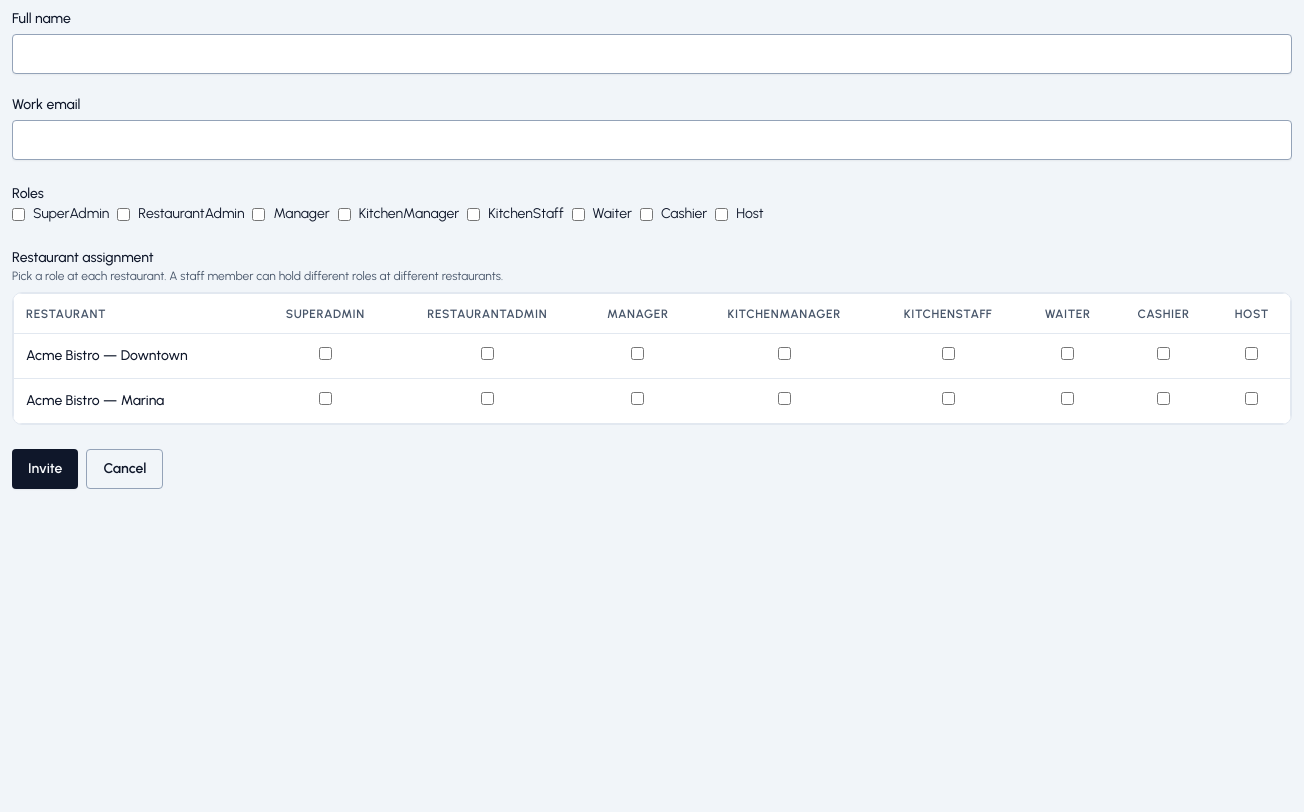
Test: StaffForm › shows validation errors when submitting an empty form
This screenshot has width=1304, height=812.
Click the button "Invite" at (45, 469), box [12, 449, 78, 489]
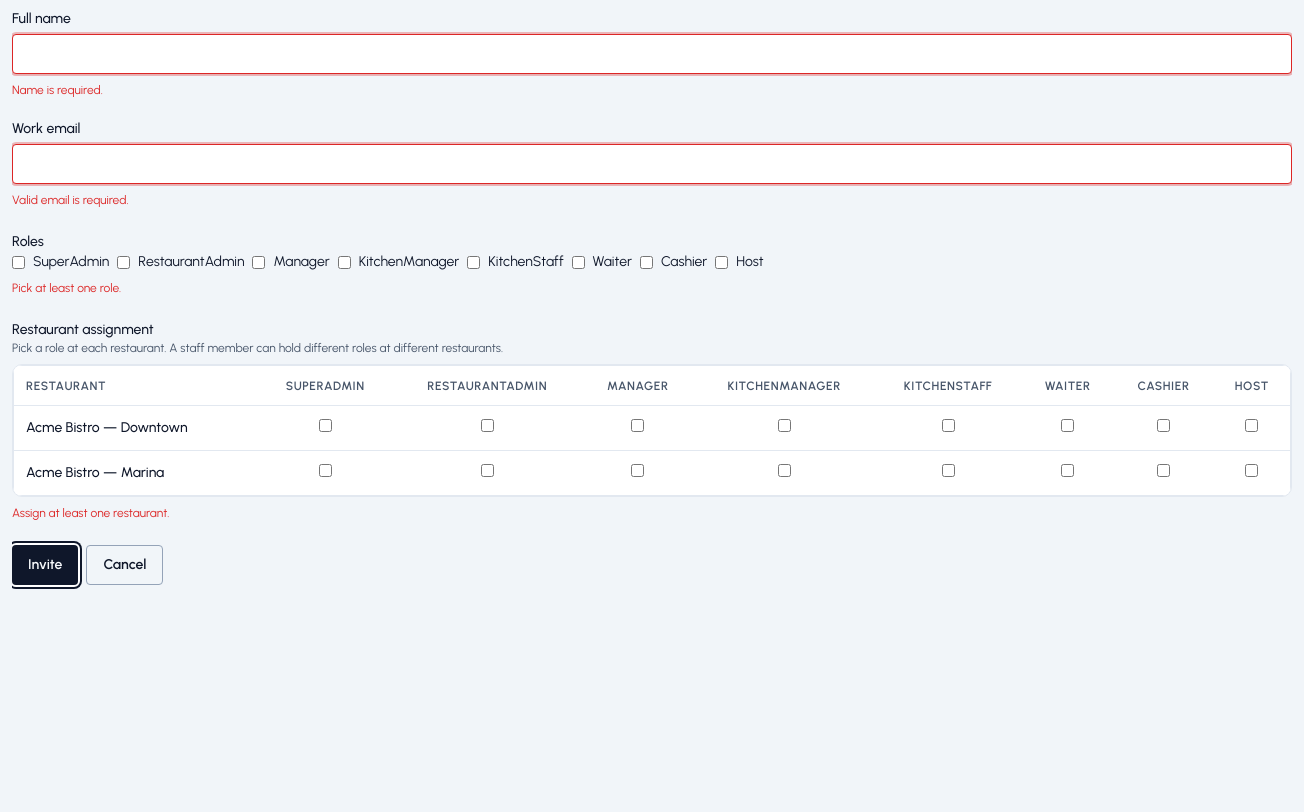
Expected: the text "Name is required." is shown, [12, 83, 103, 97]
Expected: the text "Valid email is required." is shown, [12, 193, 129, 207]
Expected: the text "Pick at least one role." is shown, [12, 281, 121, 295]
